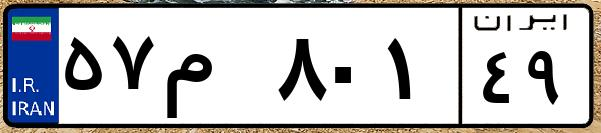0: (330, 28, 385, 110)
1: (385, 28, 445, 110)
4: (475, 38, 525, 113)
5: (57, 26, 110, 100)
7: (110, 28, 158, 98)
8: (270, 28, 330, 110)
9: (525, 38, 570, 115)
م: (158, 20, 270, 120)
